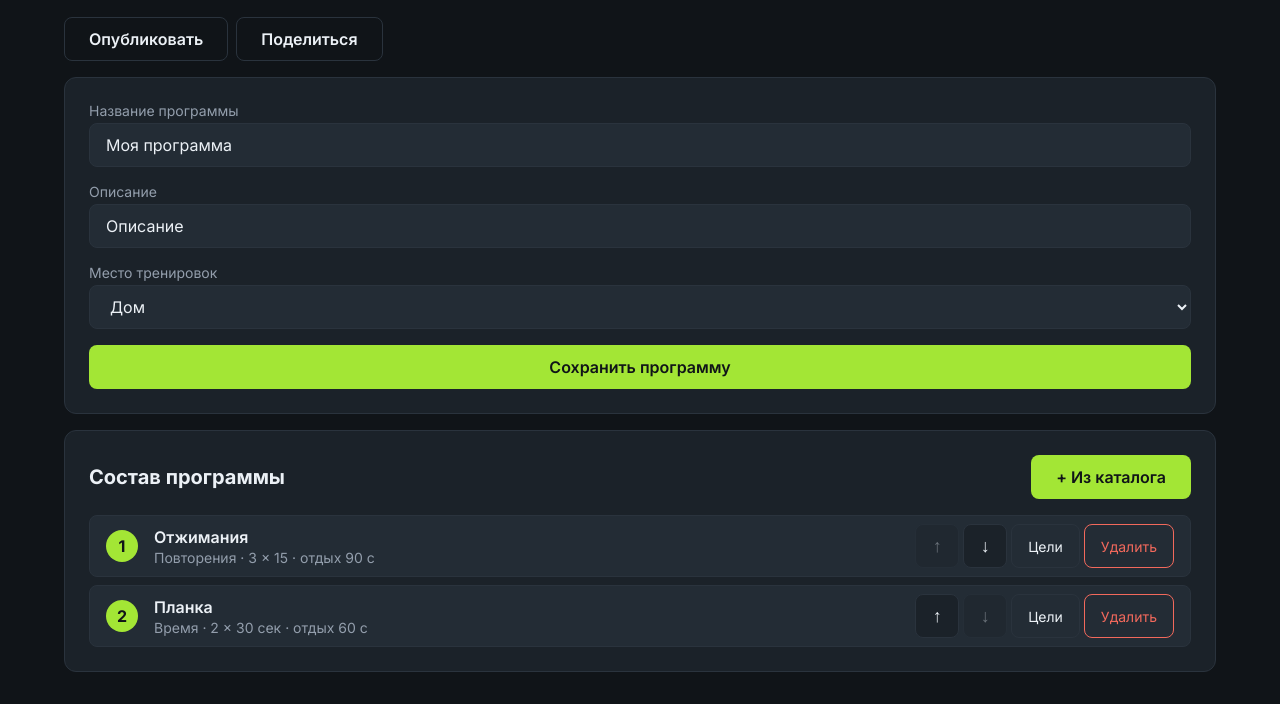
Test: ProgramDetailPage — цели упражнения › редактирование целей: подходы/повторения → PUT updateProgramExercise
This screenshot has width=1280, height=704.
(page scrolled)
Expected: the heading "Состав программы" is shown, [89,465,285,489]
Click the button "Цели" in the row of "3 × 15 · отдых 90 с" at (1046, 546), box [1011,524,1080,568]
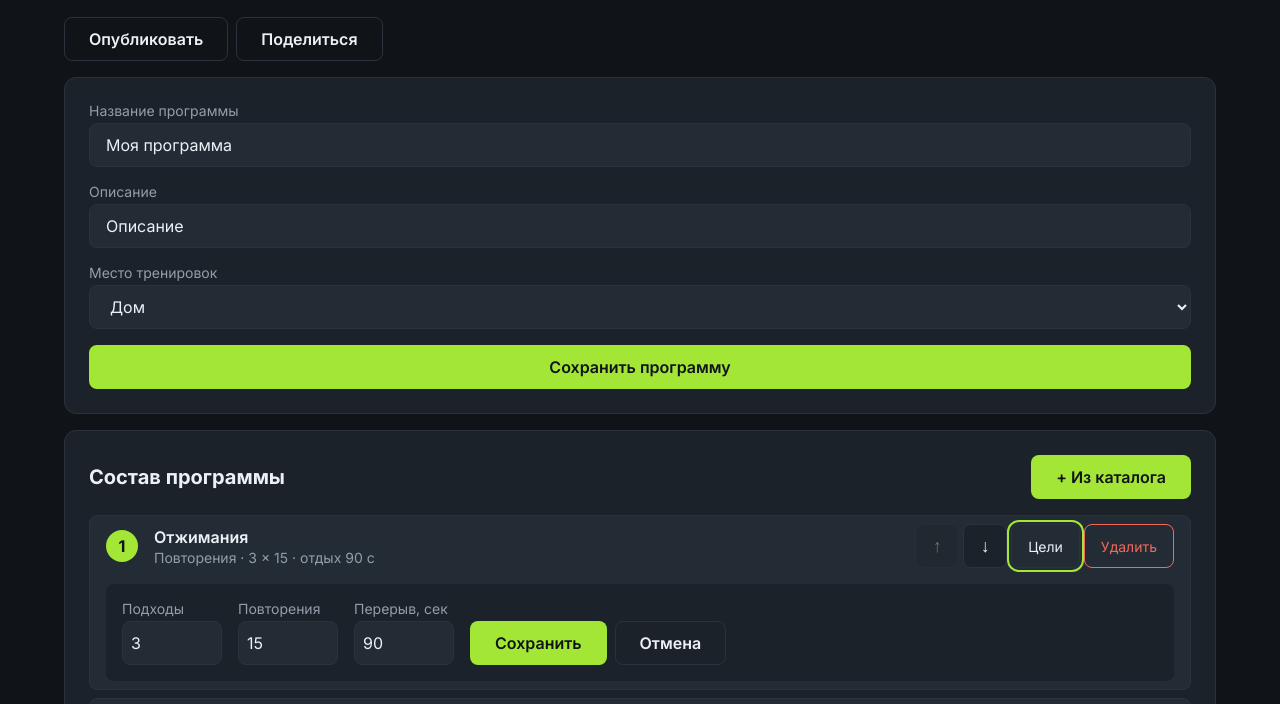
Replace the text in the number field labelled "Подходы" with "4" at (172, 643), box [122,621,222,665]
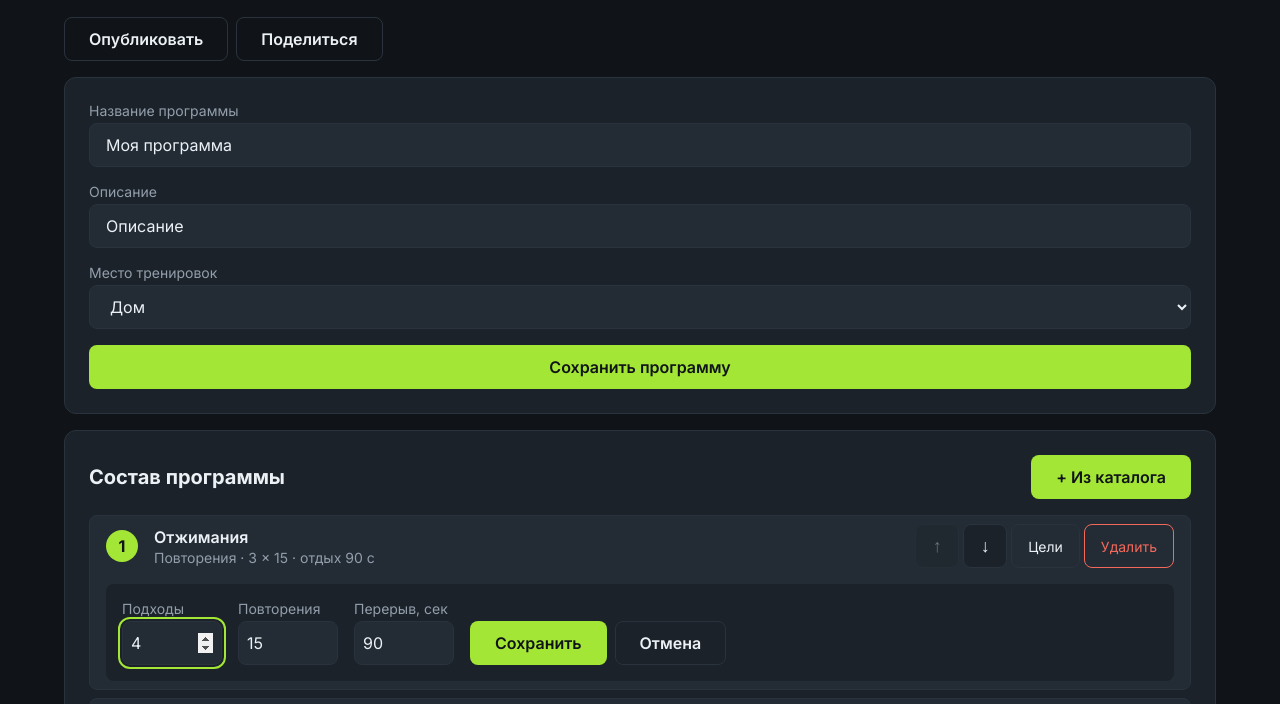
Replace the text in the number field labelled "Повторения" with "20" at (288, 643), box [238,621,338,665]
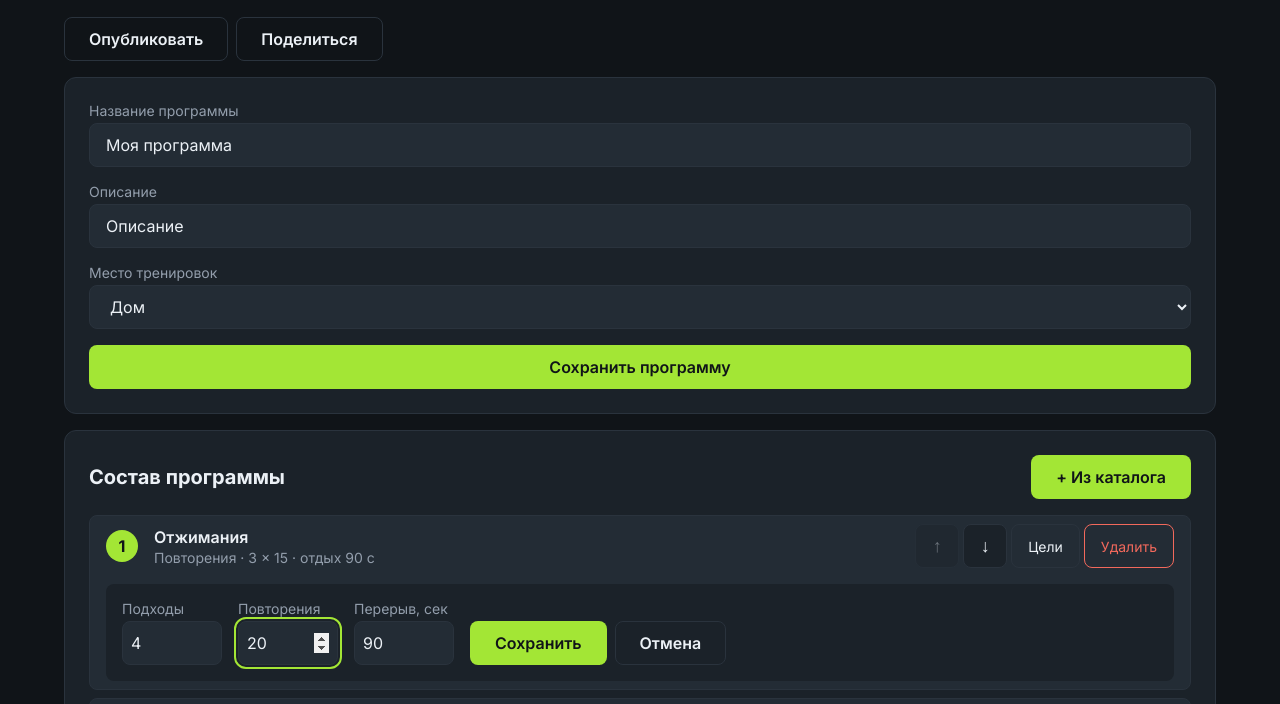
Click the button "Сохранить" at (538, 643), box [470,621,606,665]
(page scrolled)
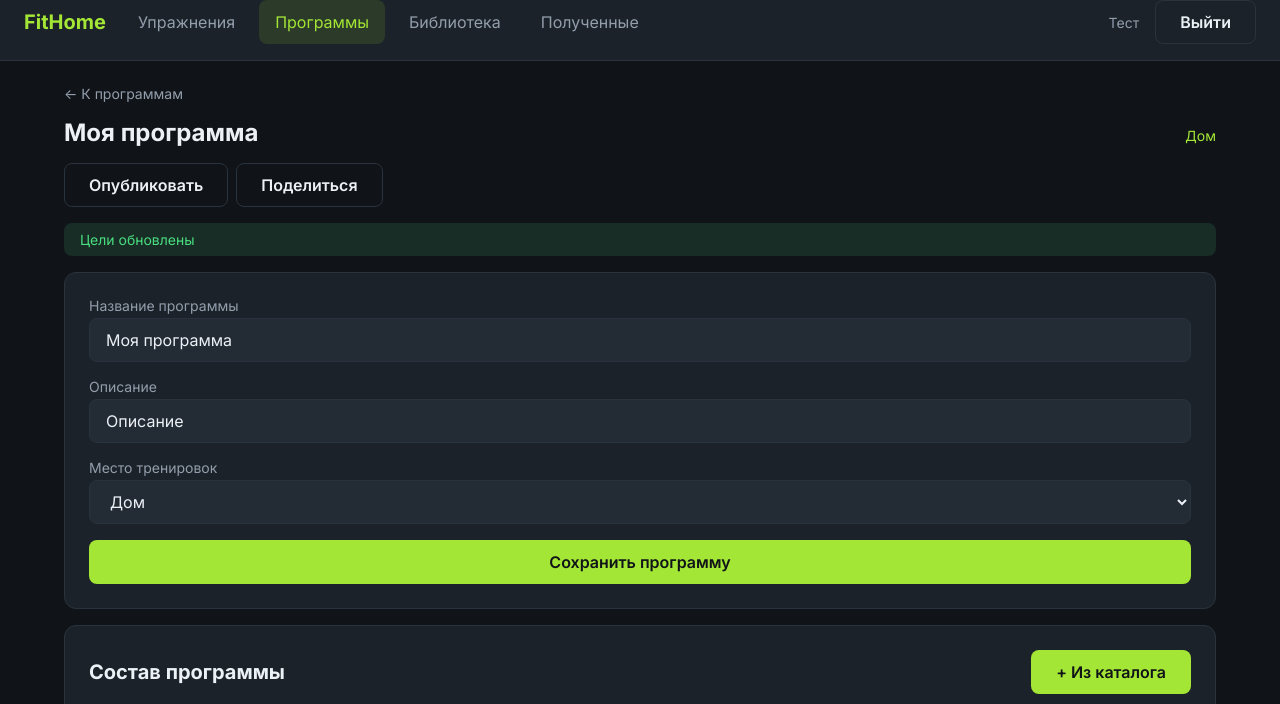
Now the text "Цели обновлены" is shown, box [64,223,1216,256]
